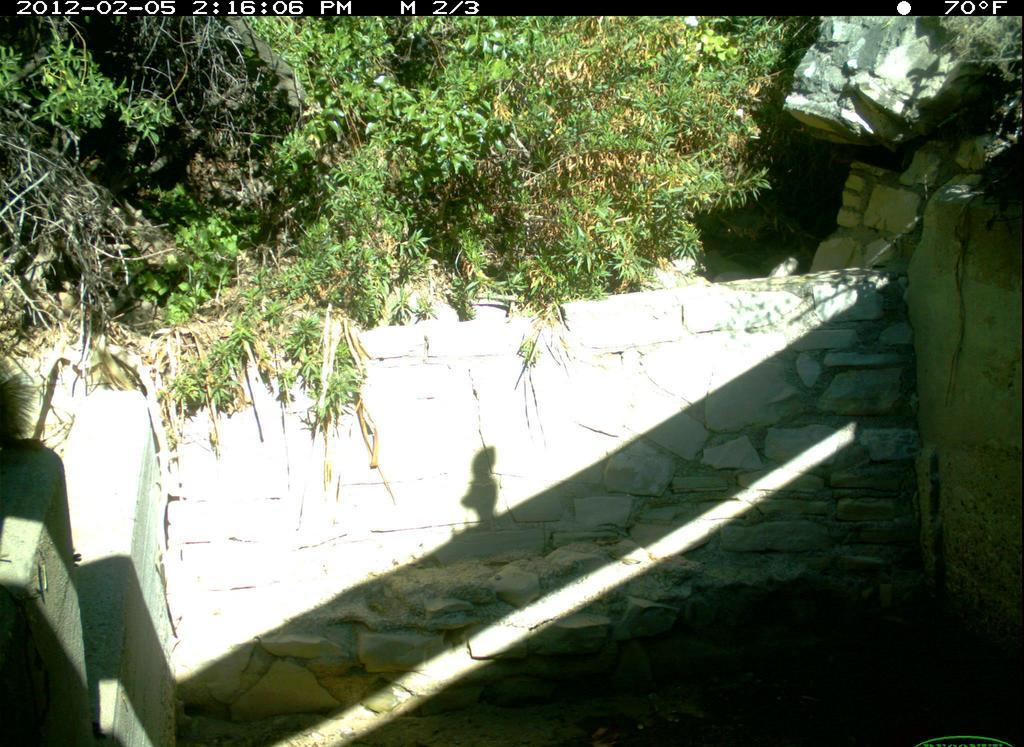squirrel: (3, 359, 52, 473)
